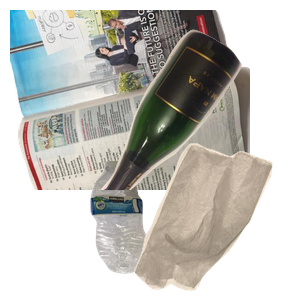glass: (87, 27, 300, 207)
paper: (10, 10, 250, 190)
plastic: (88, 158, 229, 300)
trash: (132, 140, 300, 300)
